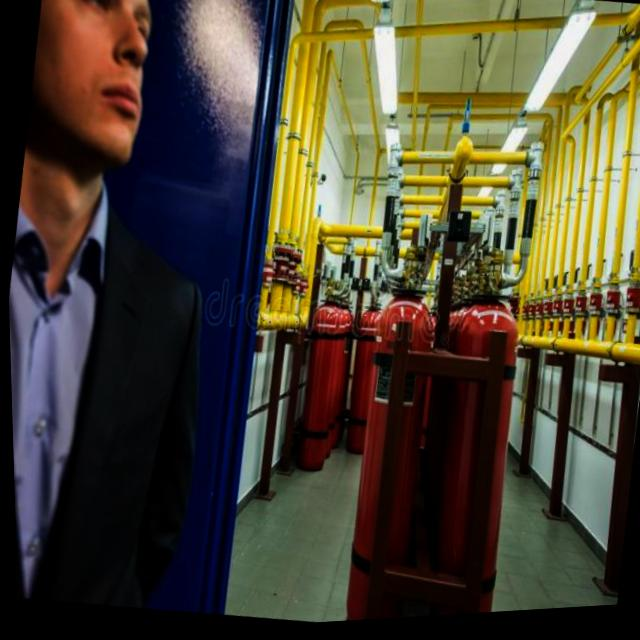FireExtinguisher: (403, 273, 538, 622), (324, 265, 451, 625), (280, 274, 352, 484), (334, 300, 390, 458)
